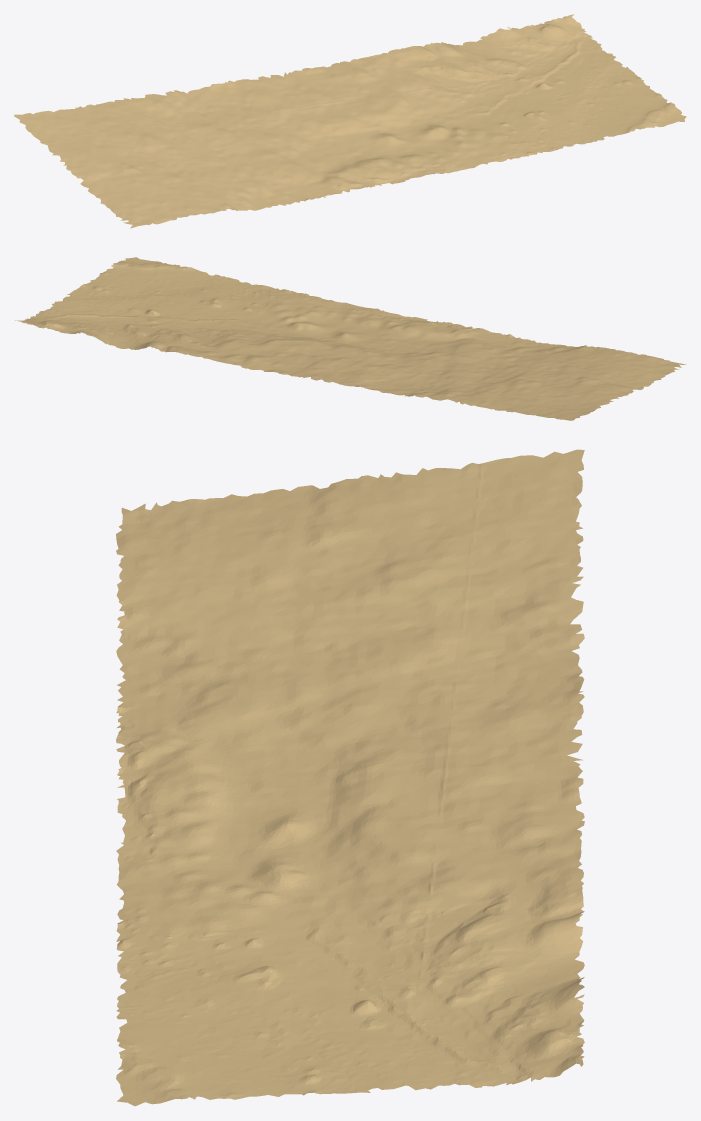
Rendered from mars_path_simpler.dae.
The picture shows the model from 3 angles, top to bottom: view 1: azimuth 30°, elevation 25°; view 2: azimuth 150°, elevation 25°; view 3: azimuth 270°, elevation 25°; orthographic projection. The views are drawn at different scales.
Visible parts, largest first — view 1: curiosityPath; view 2: curiosityPath; view 3: curiosityPath.
Part boxes in pixels (x1=…): curiosityPath: x1=14, y1=14, x2=686, y2=228; curiosityPath: x1=15, y1=257, x2=686, y2=420; curiosityPath: x1=116, y1=449, x2=584, y2=1106.
Bounding box in the file's own units: 131 × 47.51 × 12.62.
